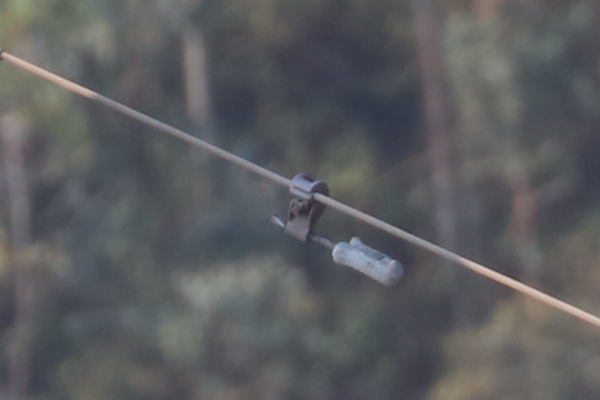damper_defect: (258, 169, 408, 291)
